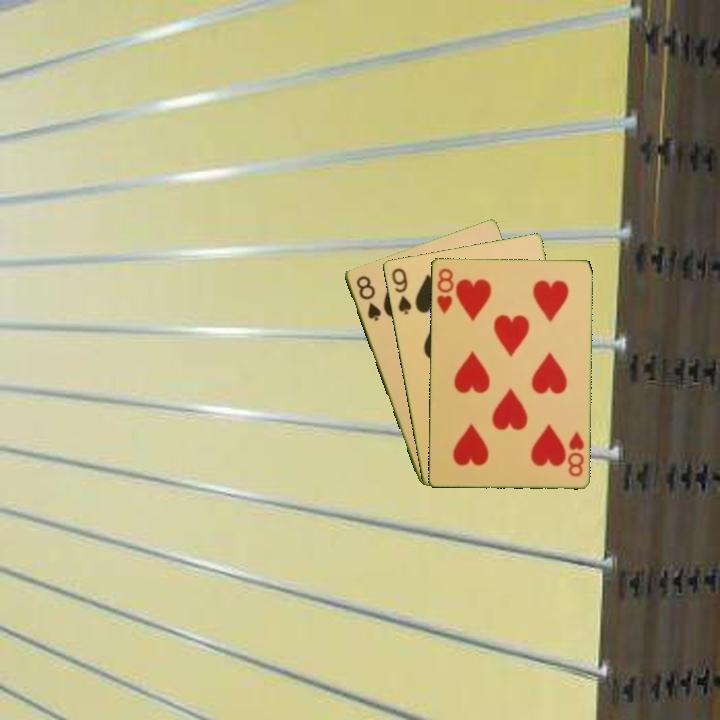8h: (563, 427, 587, 479), (433, 265, 456, 316)
8s: (352, 272, 384, 324)
9s: (388, 264, 414, 317)
